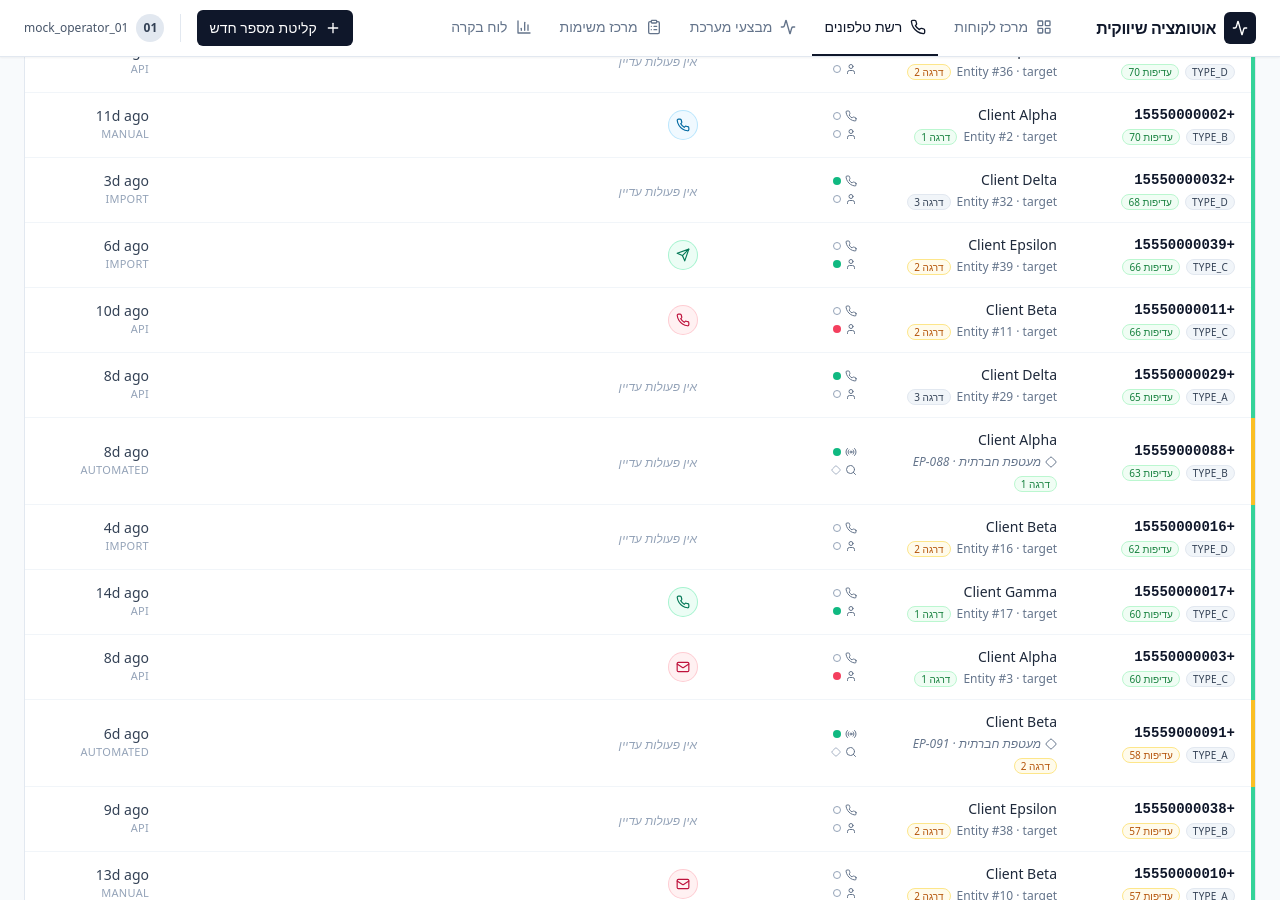
Test: Phase DY-4-C — Vector B (envelope) verdict form › typing an identify name enables submit even without an axis pick
(page scrolled)
Click the text "+15559000088" at [1185, 450], box [1134,442,1235,458]
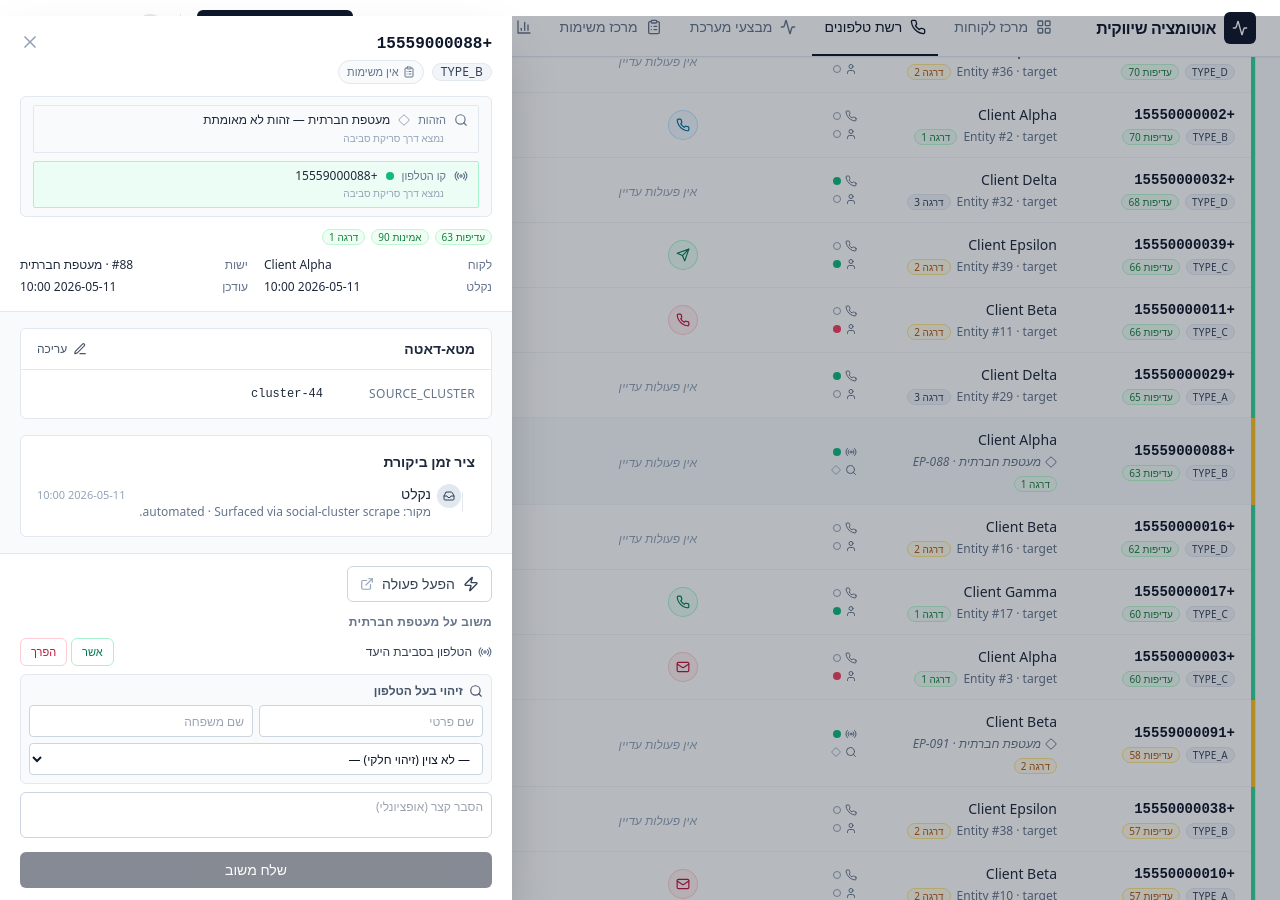
Expected: the button "שלח משוב" is disabled, [20,852,492,888]
Note: Type a first name → identification block triggers canSubmit.
Type "Mary" into the field with placeholder "שם פרטי" at [371, 721], box [259,705,483,737]
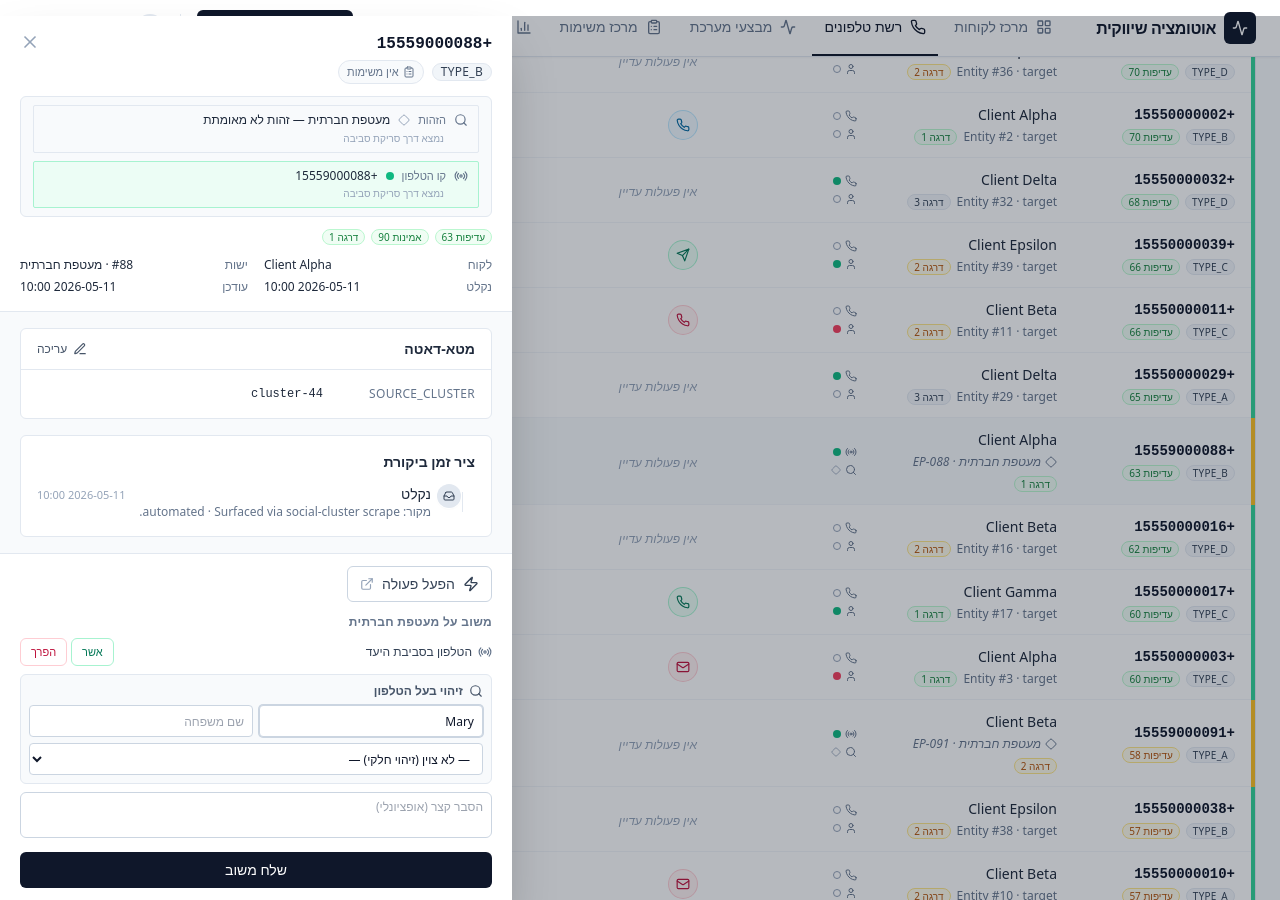
Expected: the button "שלח משוב" is enabled, [20,852,492,888]
